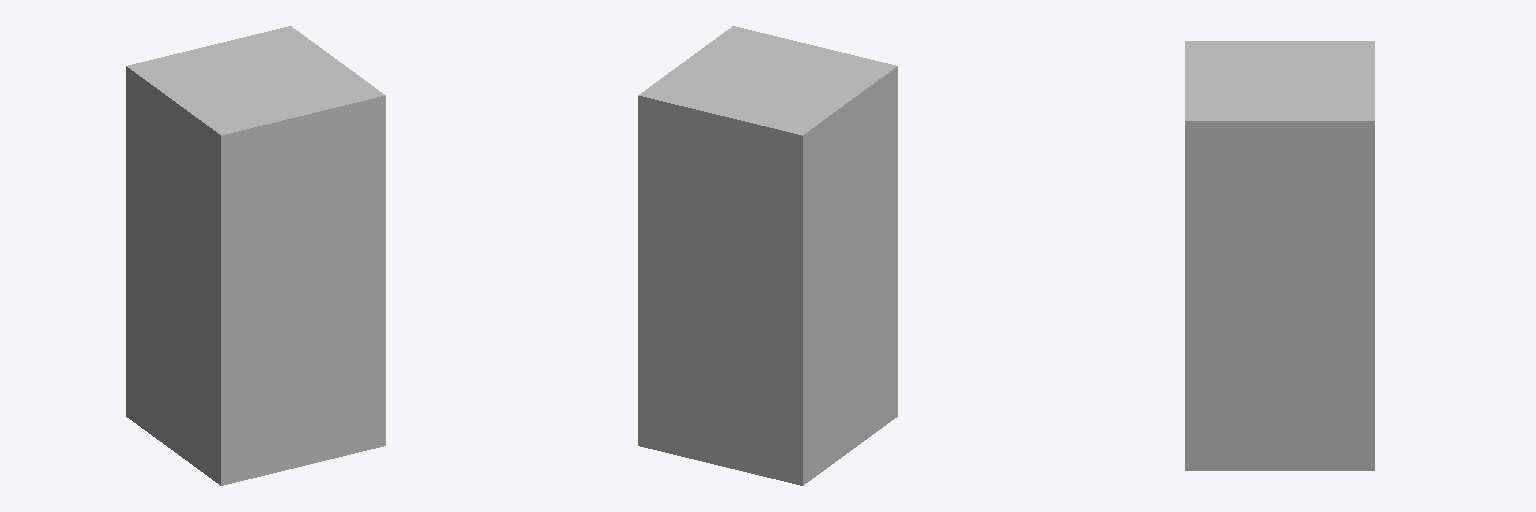
File: cube_long.obj
3 renders of one model, left to right at view 1: azimuth 30°, elevation 25°; view 2: azimuth 150°, elevation 25°; view 3: azimuth 270°, elevation 25°, orthographic.
Parts seen in each view (by area): view 1: cube:pCube1; view 2: cube:pCube1; view 3: cube:pCube1.
Boxes of the visible parts, x1,y1,x2,y2 form: cube:pCube1: [126, 26, 385, 485]; cube:pCube1: [638, 26, 897, 485]; cube:pCube1: [1185, 41, 1374, 470].
Size of the model in its own units: 1.95 by 3.96 by 1.95.